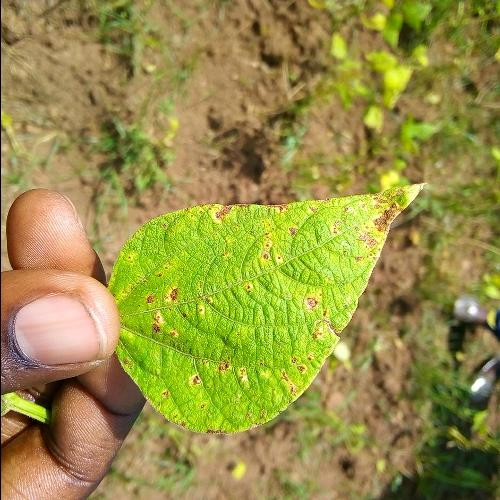hawar: (112, 189, 416, 435)
